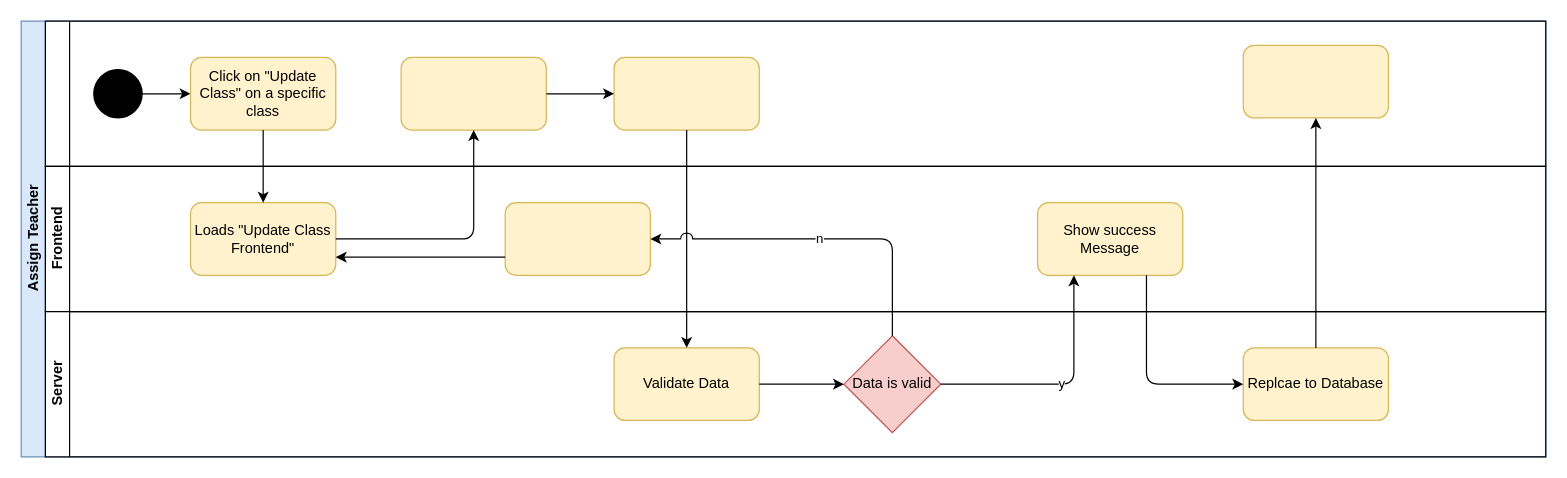
Some shapes in this 1567 by 478 pixel diagram are drawn without their labels. Here are the shapes that lost their labels. From the top down, the box of each, then its label:
(400, 56, 546, 130): Update Data
(613, 56, 759, 130): Click on button "Update Class"
(44, 20, 1546, 166): Admin
(1242, 44, 1388, 118): Redirect User
(504, 201, 650, 275): Show Error Message
